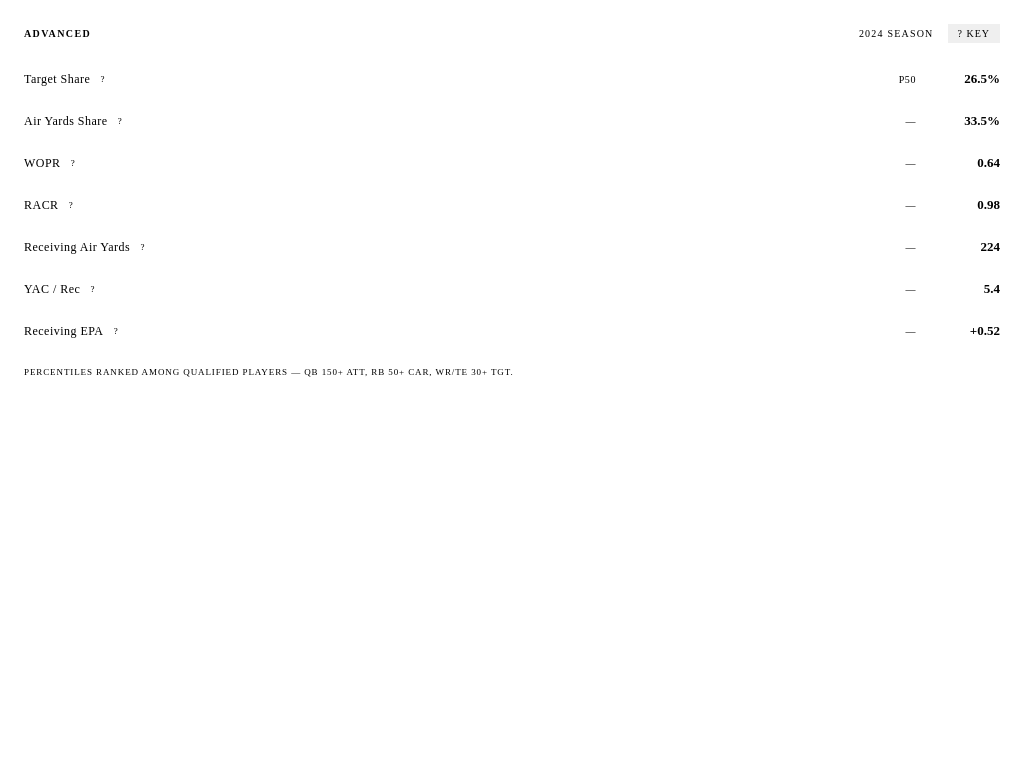
Test case: AdvancedPanel states › glossary rows toggle open on click and via the KEY button
Check: the text "Share of the team's pass attempts" is not shown
Click the button "Target Share ? P50 26.5%".
click(57, 78)  # box [24, 71, 1000, 86]
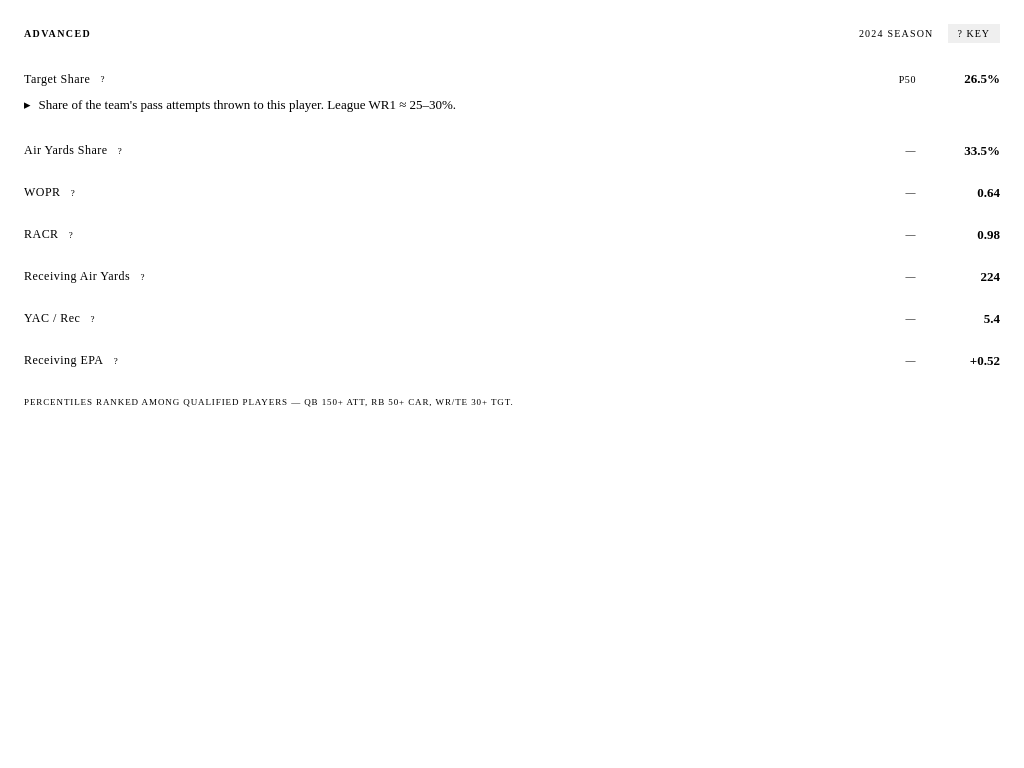
Check: the text "Share of the team's pass attempts" is shown, box [38, 97, 456, 112]
Click the button "? KEY".
click(974, 34)  # box [948, 24, 1000, 43]
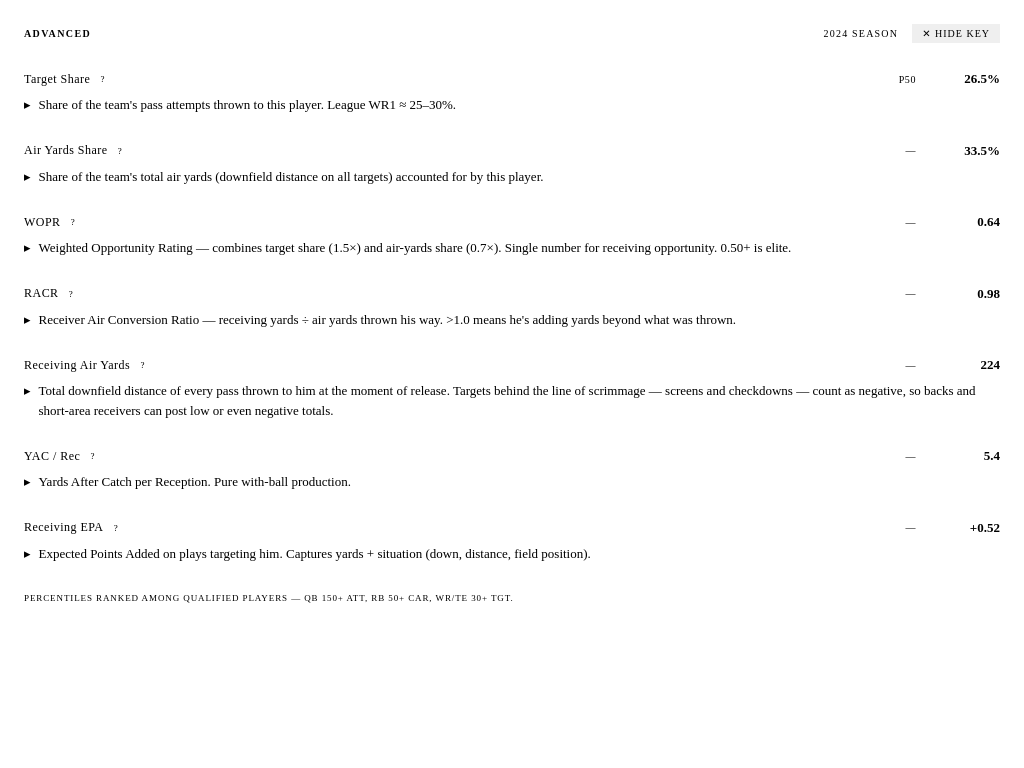
Check: the text "Receiver Air Conversion Ratio" is shown, box [38, 312, 736, 326]
